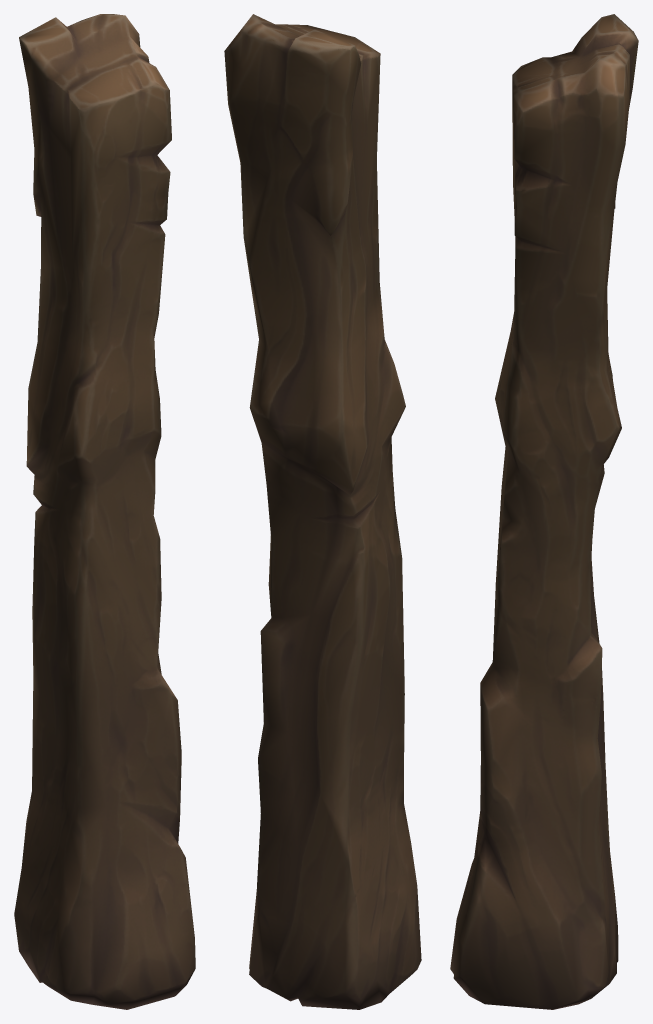
Rendered from SM_FW01_RoadsignPost_02.fbx.
3 renders of one model, left to right at view 1: azimuth 30°, elevation 25°; view 2: azimuth 150°, elevation 25°; view 3: azimuth 270°, elevation 25°, orthographic. The views are drawn at different scales.
Visible parts, largest first — view 1: SM_FW01_RoadsignPost_02_LOD0; view 2: SM_FW01_RoadsignPost_02_LOD0; view 3: SM_FW01_RoadsignPost_02_LOD0.
Part boxes in pixels (x1,y1,x2,y2): SM_FW01_RoadsignPost_02_LOD0: [14, 14, 195, 1009]; SM_FW01_RoadsignPost_02_LOD0: [224, 14, 421, 1009]; SM_FW01_RoadsignPost_02_LOD0: [450, 14, 638, 1009].
Size of what is drawn, in the model's own units: 0.3022 by 2.1 by 0.3783.
